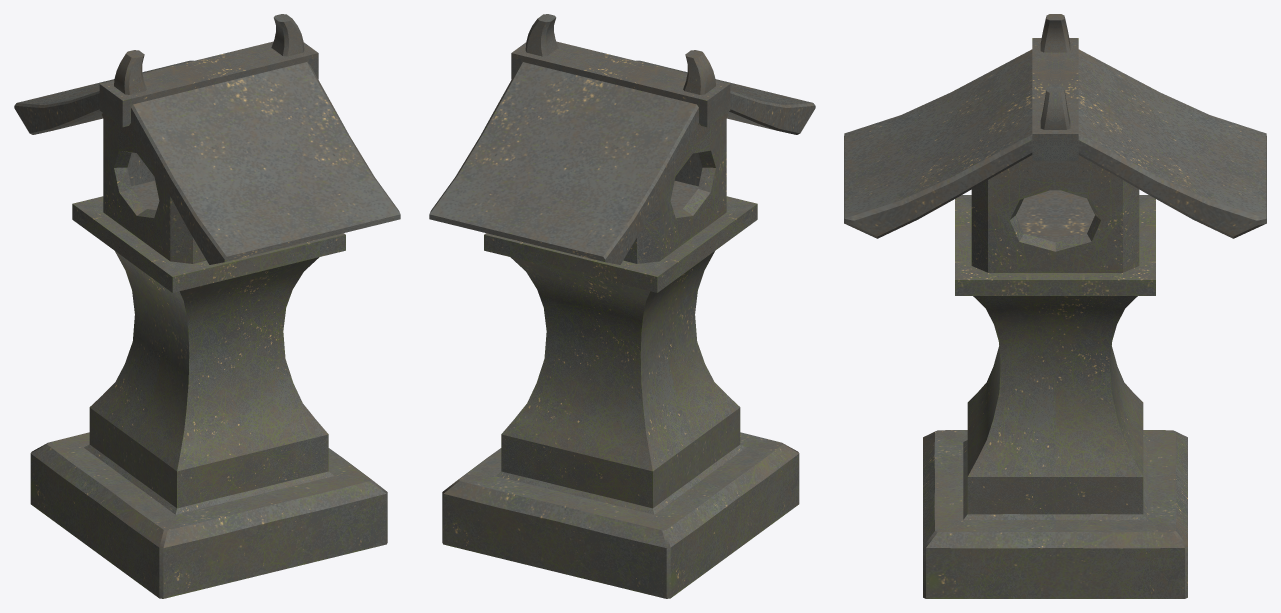
The model's file is tourou_06.fbx.
3 renders of one model, left to right at view 1: azimuth 30°, elevation 25°; view 2: azimuth 150°, elevation 25°; view 3: azimuth 270°, elevation 25°, orthographic.
Visible parts, largest first — view 1: pCube4, pCube5; view 2: pCube4, pCube5; view 3: pCube4, pCube5.
Part boxes in pixels (x1,y1,x2,y2): pCube4: [30, 113, 387, 598]; pCube5: [14, 14, 400, 264]; pCube4: [442, 113, 799, 598]; pCube5: [429, 14, 815, 264]; pCube4: [923, 155, 1187, 598]; pCube5: [844, 14, 1266, 238].
Size of the model in its own units: 7.33 by 14.96 by 11.71.
Materials: 1 (1 with a texture image).
